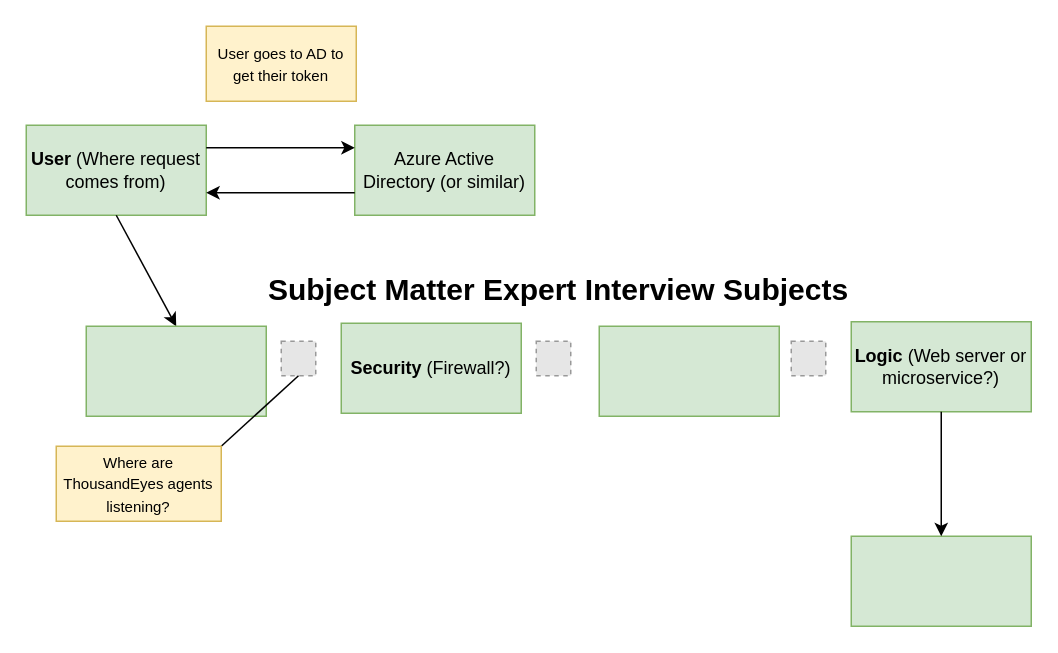
This 1058x653 diagram has some shape labels left out. Grey dashed boxes stand in for pictures. Each missing label, with the centre of its shape:
"Database (Where data lives)" goes at pixel 940 580.
"Distribution (Load Balancing?" goes at pixel 688 370.
"DNS (What steers the traffic?)" goes at pixel 175 370.
